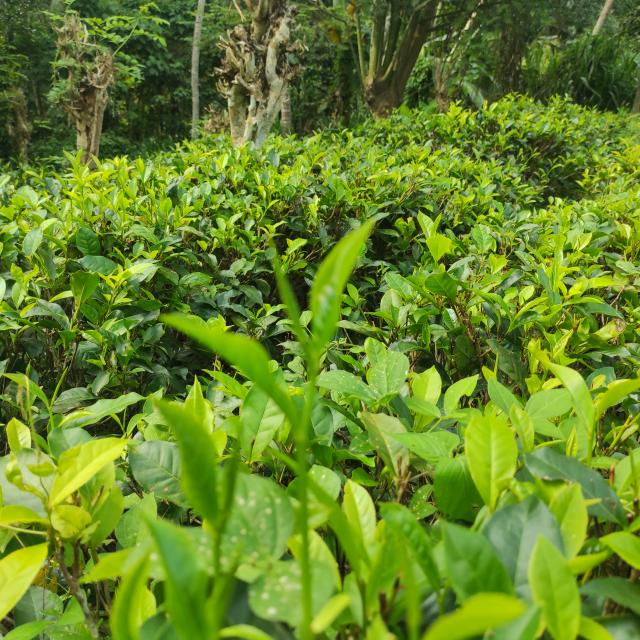unopened_leaf: (265, 235, 319, 381), (42, 361, 74, 412)
